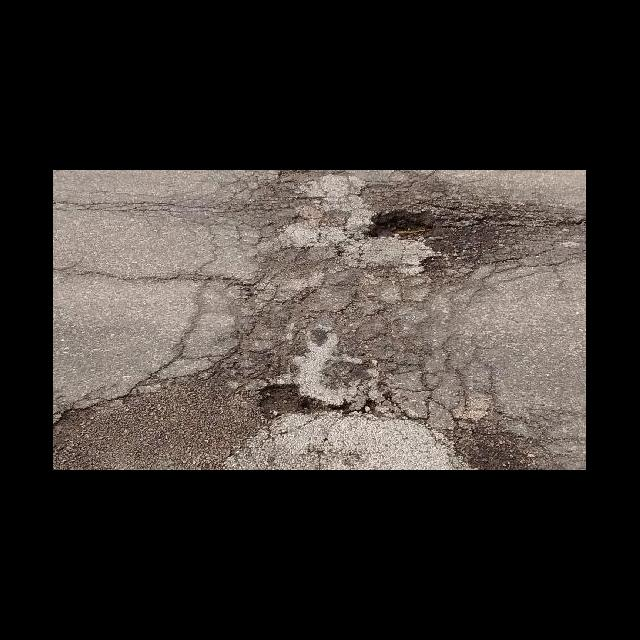lubang_kecil: (355, 199, 441, 252)
retak_kulit_buaya: (192, 170, 280, 237)
